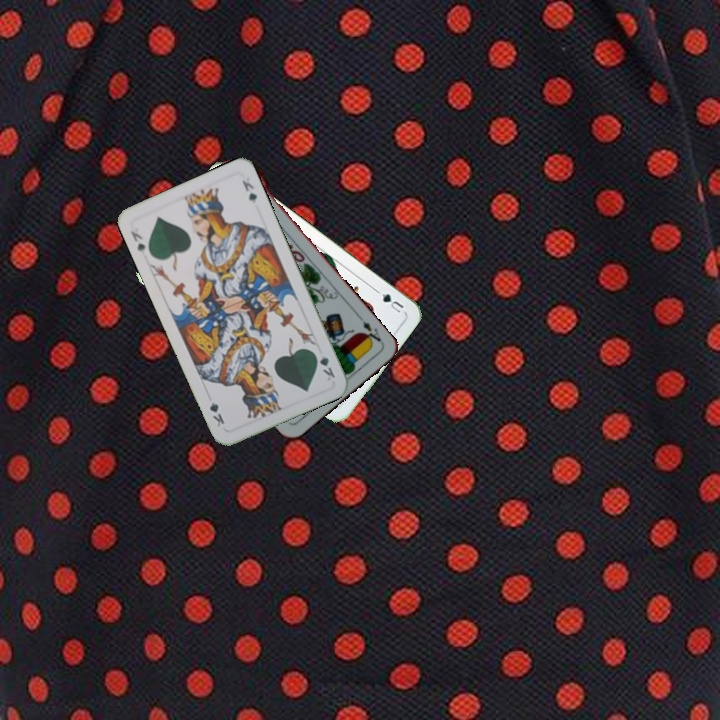EA: (358, 317, 385, 348)
GK: (310, 347, 338, 383), (126, 227, 148, 257)
GU: (378, 289, 406, 316)
